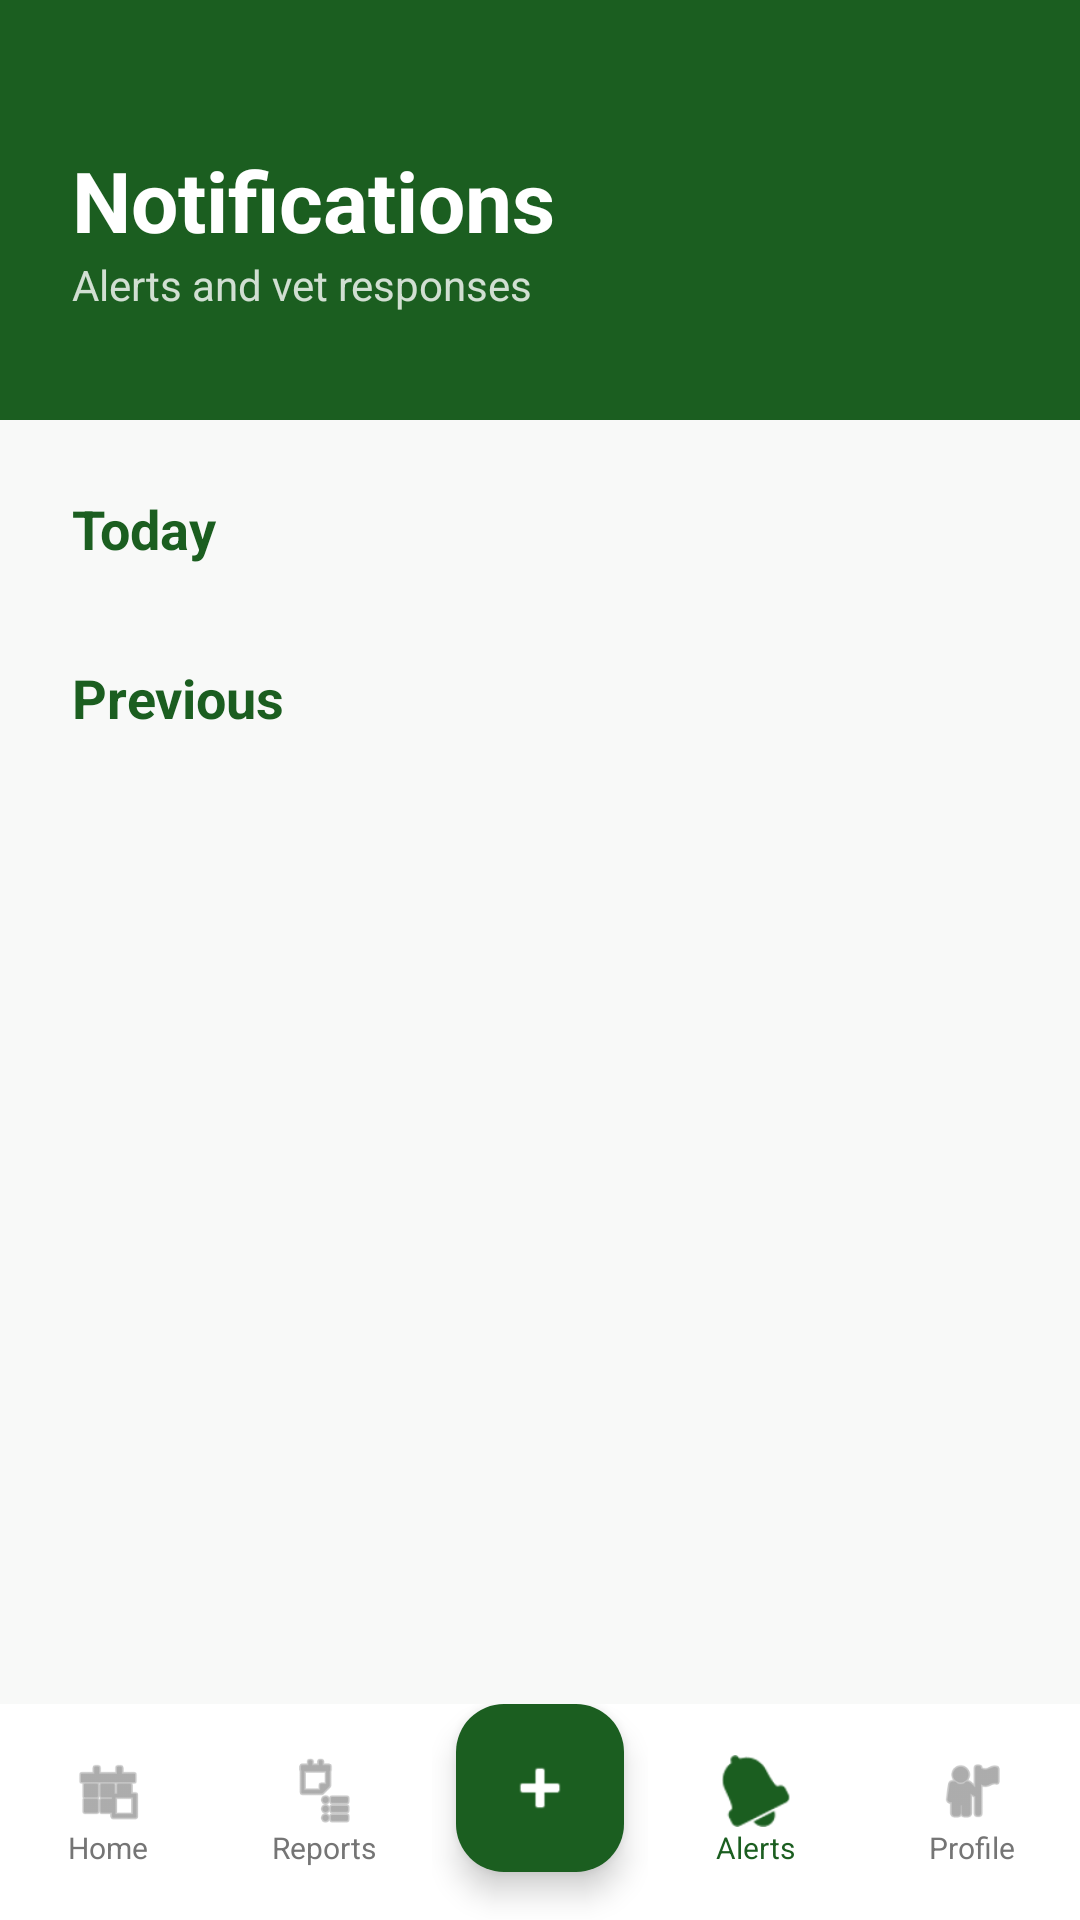

Named icons in this screenshot (1080px×1920px) and their centers, [x,y]:
add: [540,1788]
agenda: [324,1791]
myplaces: [973,1791]
popup reminder: [756,1791]
today: [108,1792]
